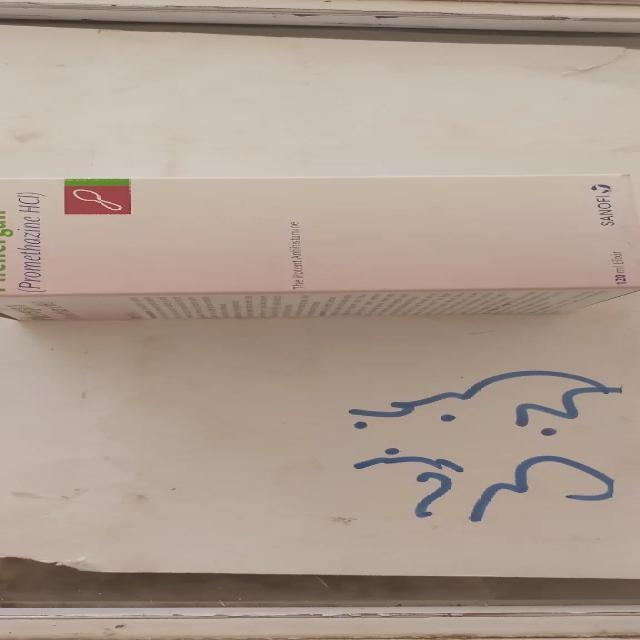drug-name: (0, 202, 15, 292)
